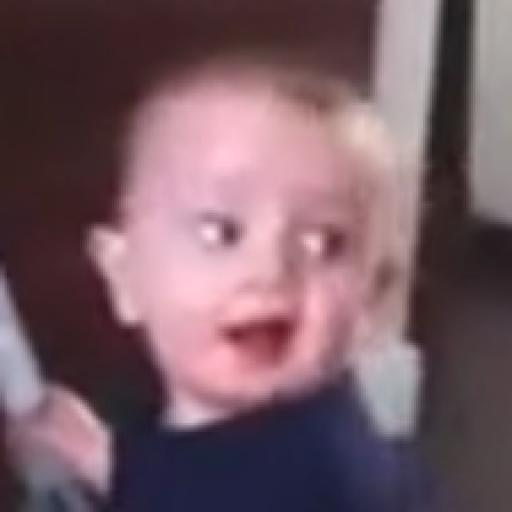Autism: (106, 66, 436, 416)
